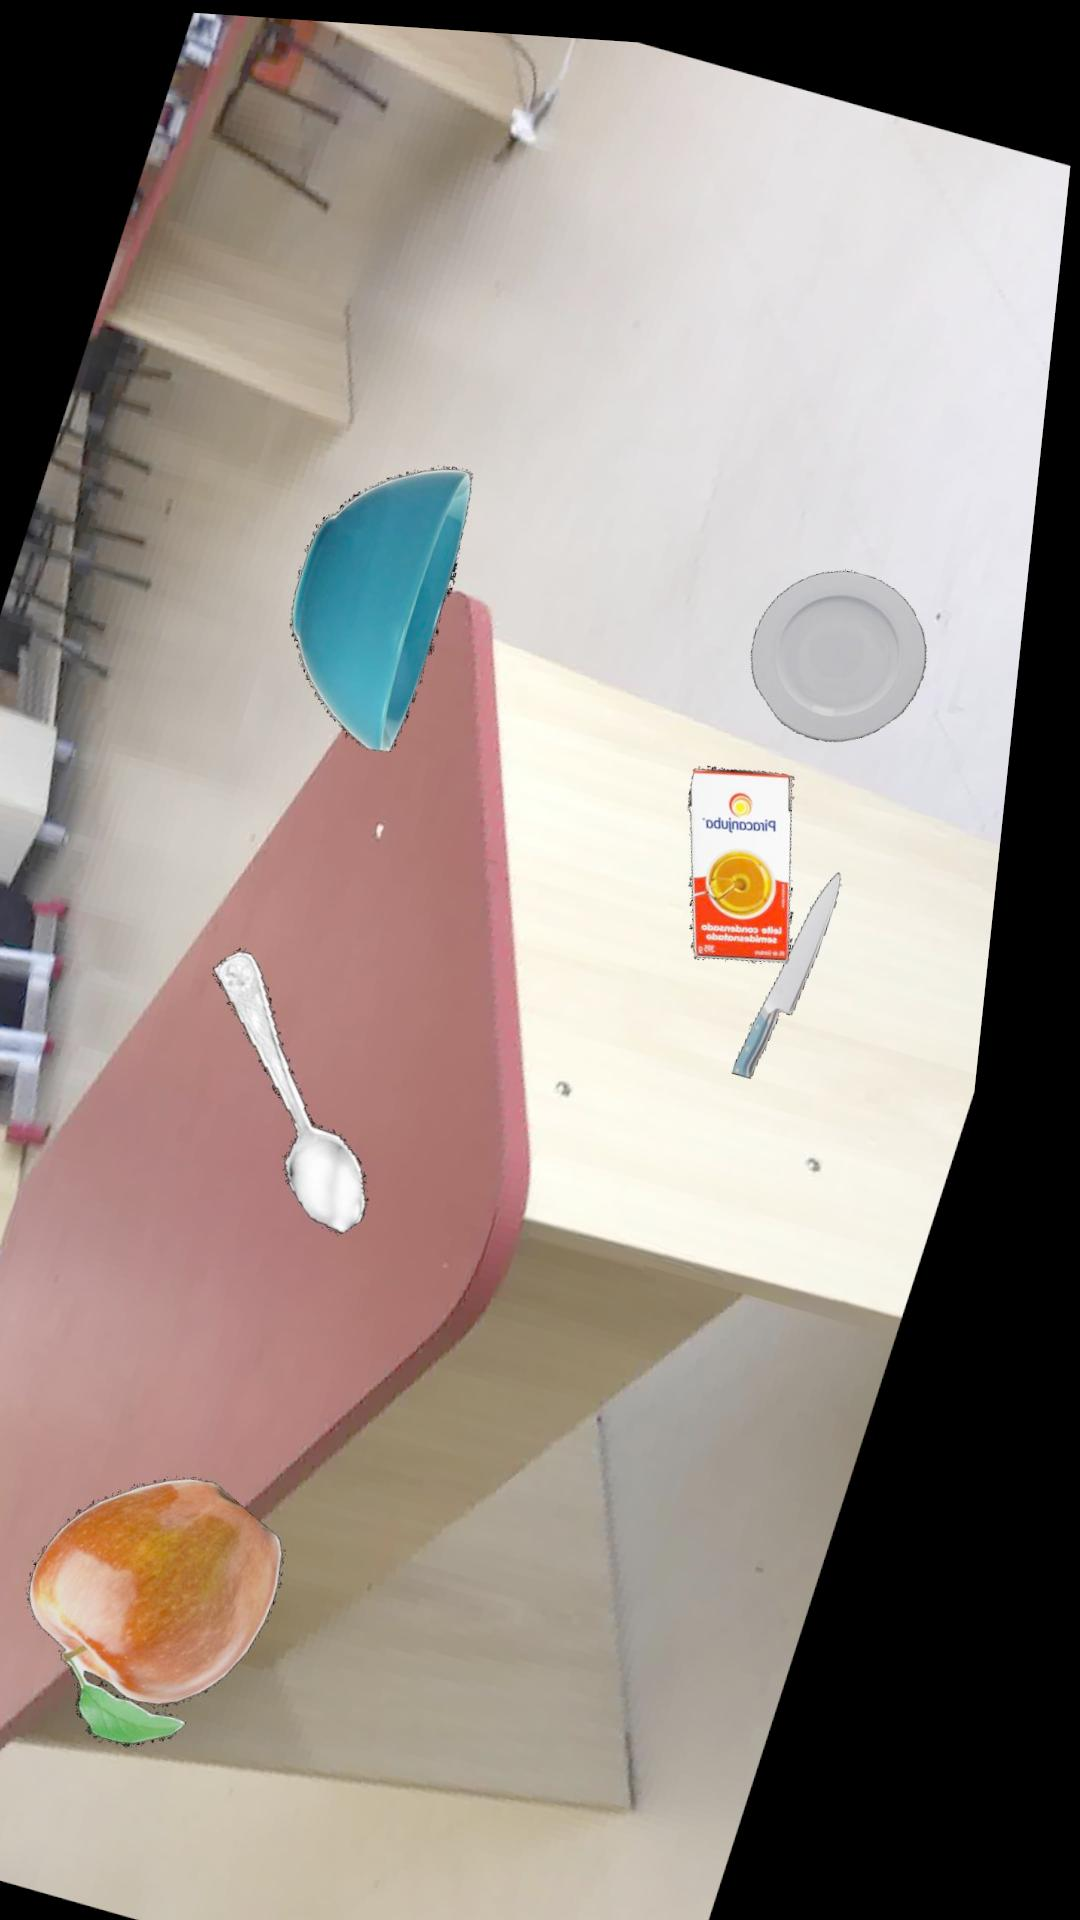apple: (63, 1472, 316, 1741)
bowl: (303, 458, 483, 744)
knife: (756, 857, 860, 1064)
plate: (765, 555, 940, 727)
spoon: (235, 944, 396, 1225)
